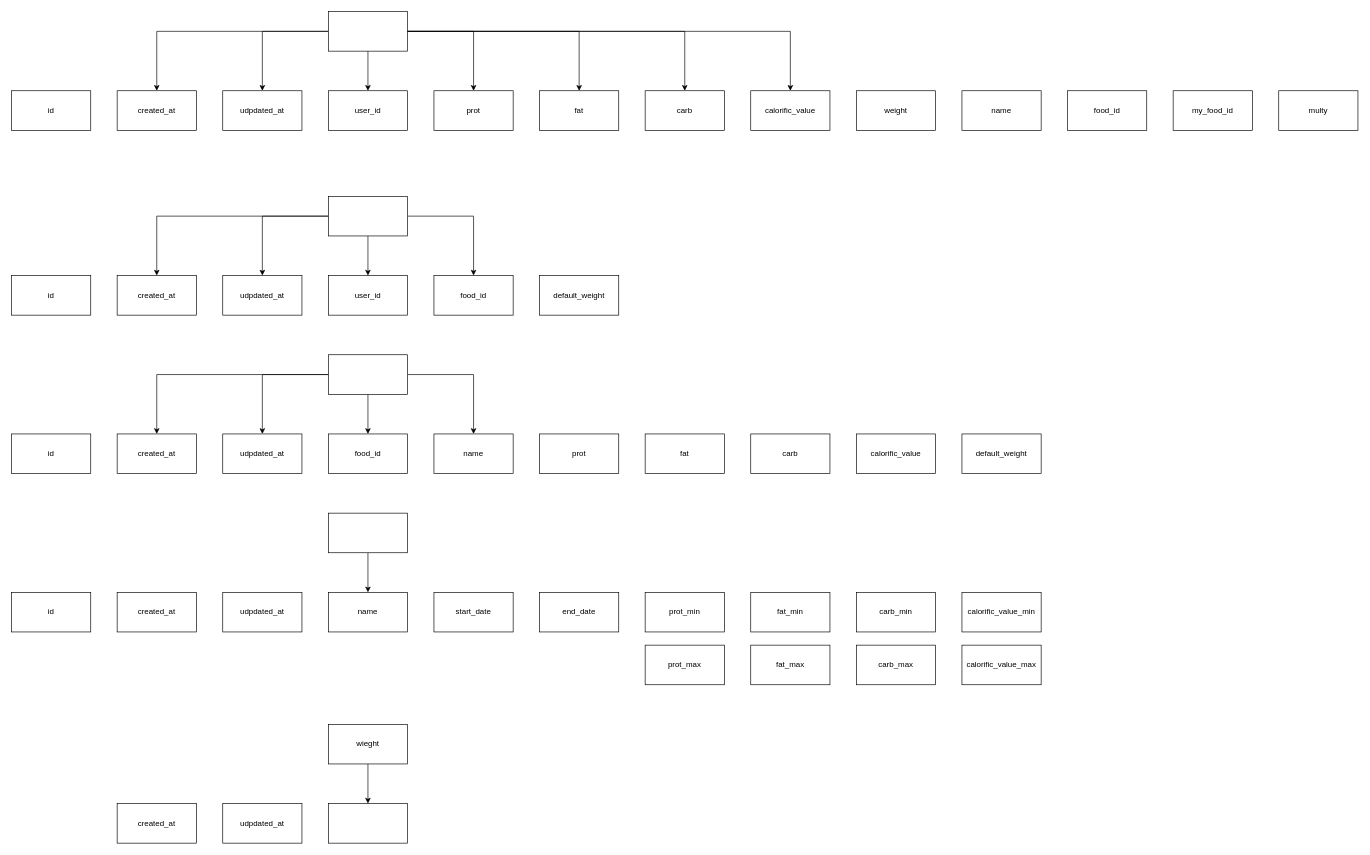
The diagram is 1370 pixels wide and 855 high, and some of its shapes have lost their labels. Here are the shapes that lost their labels. From the top down, the centre of each, then its label:
At [368,31]: "food log".
At [368,216]: "my_food".
At [368,374]: "food".
At [368,532]: "diet".
At [368,823]: "value".
